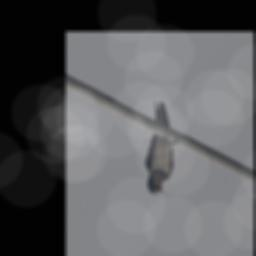Swallow: (127, 99, 191, 199)
